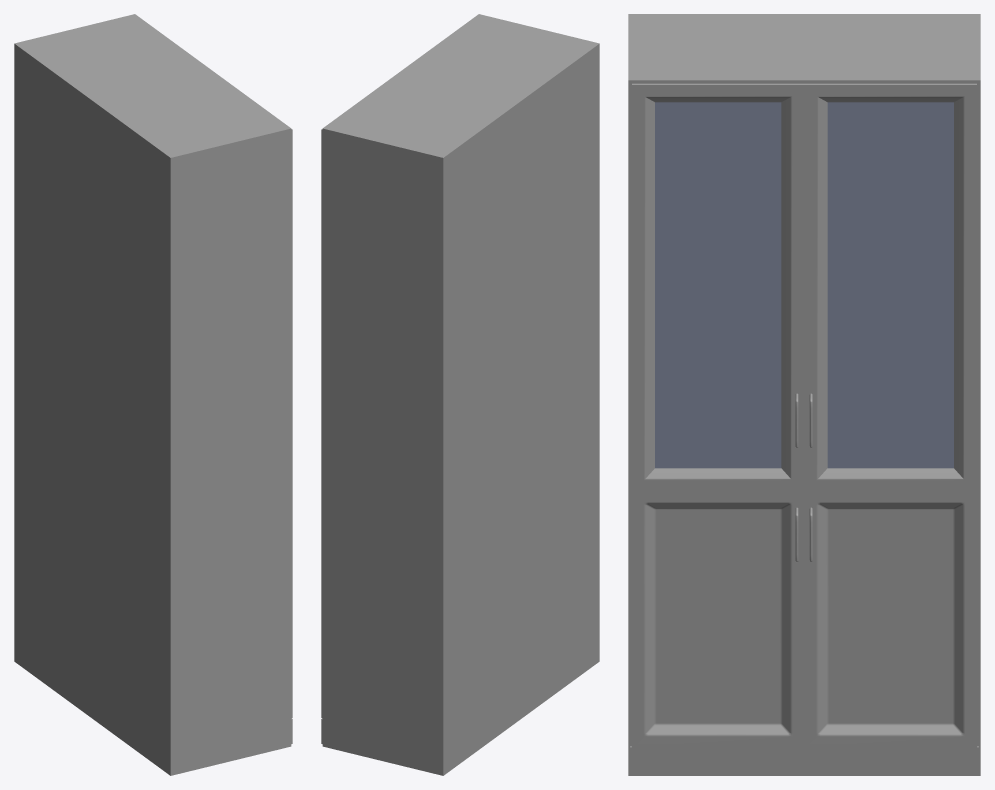
Rendered from closet.fbx.
The picture shows the model from 3 angles, left to right: view 1: azimuth 30°, elevation 25°; view 2: azimuth 150°, elevation 25°; view 3: azimuth 270°, elevation 25°; orthographic projection. The views are drawn at different scales.
Parts seen in each view (by area): view 1: closet; view 2: closet; view 3: closet.
Boxes of the visible parts, x1,y1,x2,y2 form: closet: [14, 14, 292, 775]; closet: [321, 14, 599, 775]; closet: [628, 14, 980, 775].
Bounding box in the file's own units: 0.4341 × 1.88 × 0.8626.
